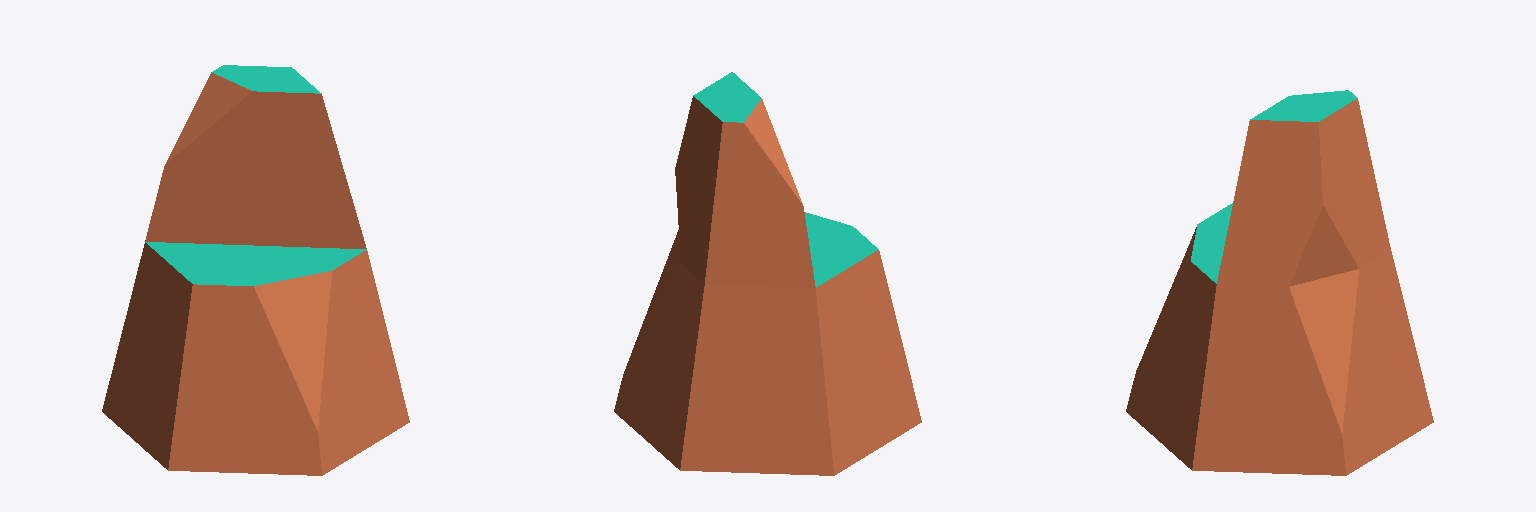
Rendered from rock_tallJ.obj.
3 renders of one model, left to right at view 1: azimuth 30°, elevation 25°; view 2: azimuth 150°, elevation 25°; view 3: azimuth 270°, elevation 25°, orthographic.
Visible parts, largest first — view 1: rock_tallJ; view 2: rock_tallJ; view 3: rock_tallJ.
Boxes of the visible parts, x1,y1,x2,y2 form: rock_tallJ: [102, 65, 409, 475]; rock_tallJ: [614, 72, 921, 475]; rock_tallJ: [1126, 90, 1433, 475].
Size of the model in its own units: 0.4879 by 0.62 by 0.5382.